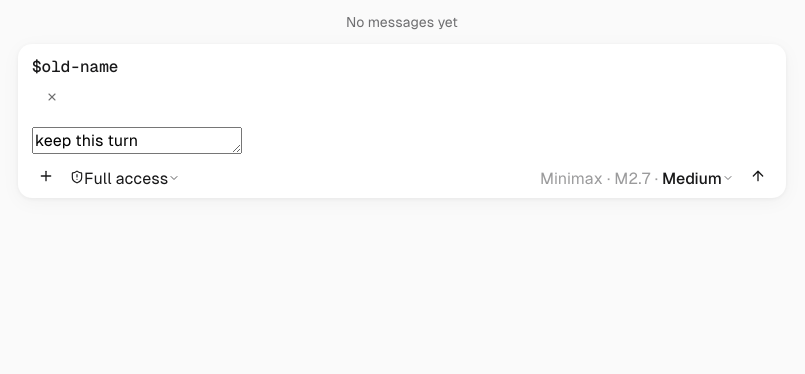
ChatView › does not let an older blocked refresh clear a newer blocked response
The image size is (805, 374).
Expected: the button "Minimax · M2.7 · Medium" is shown, top-left (534, 167), bottom-right (740, 190)
Click the button named "send" at point(758, 178), box top-left (744, 167), bottom-right (772, 190)
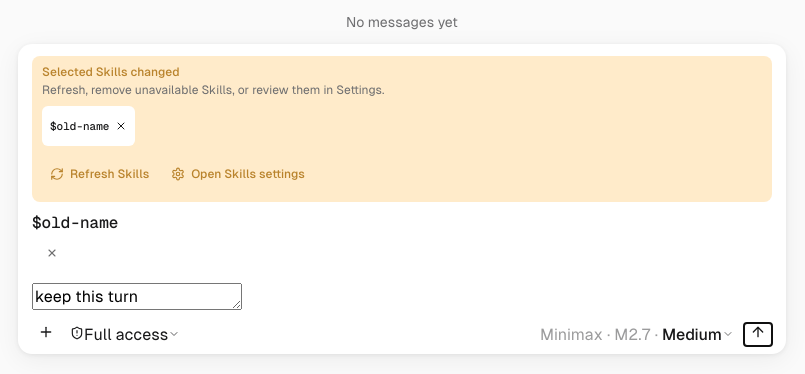
Now the button with aria-label "Remove unavailable Skill old-name" is shown, box top-left (42, 106), bottom-right (135, 146)
Click the button "Refresh Skills" at point(100, 174), box top-left (42, 154), bottom-right (157, 194)
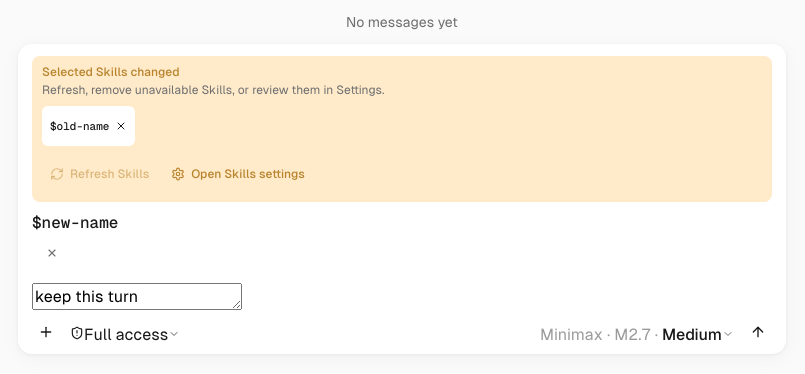
Click the button named "send" at point(758, 334), box top-left (744, 323), bottom-right (772, 346)
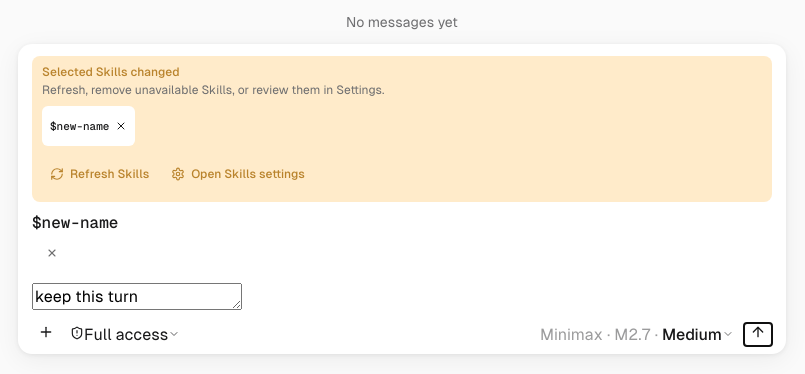
Now the button "Refresh Skills" is enabled, box top-left (42, 154), bottom-right (157, 194)
Now the button with aria-label "Remove unavailable Skill new-name" is shown, box top-left (42, 106), bottom-right (135, 146)
